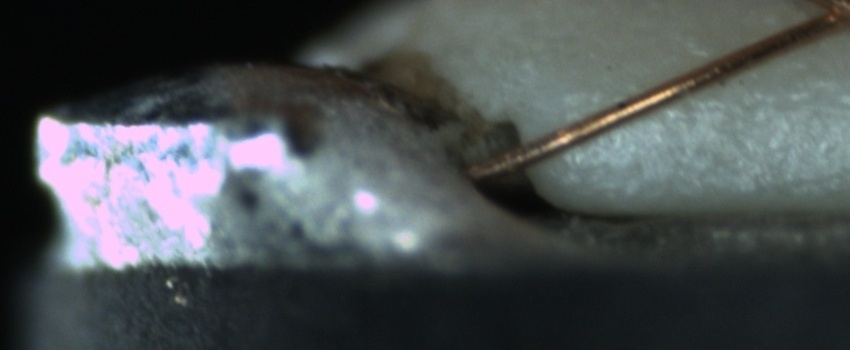DL: (609, 70, 850, 134)
